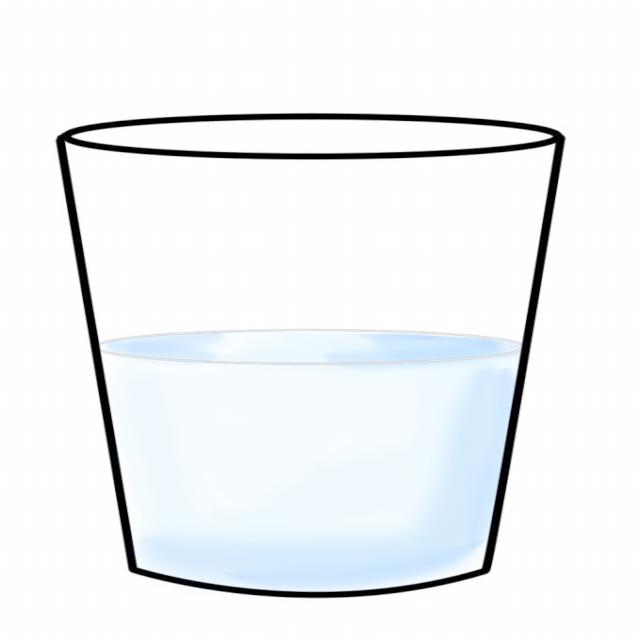half-bottle: (46, 105, 568, 608)
